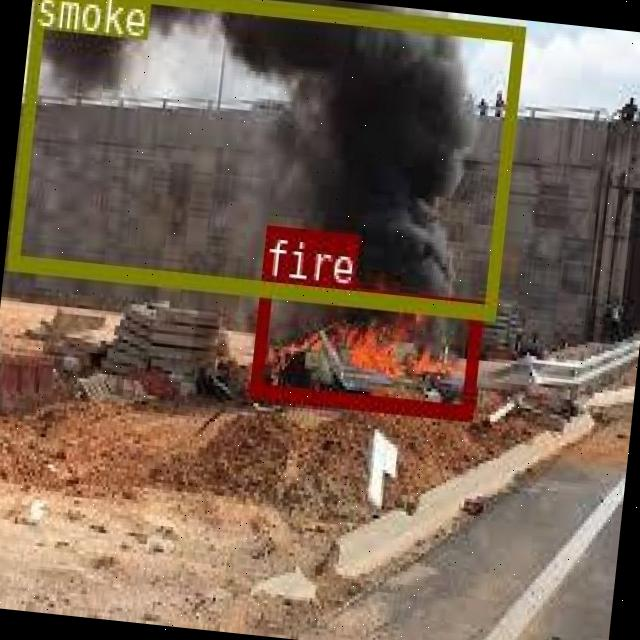fire: (247, 277, 480, 417)
smoke: (6, 0, 523, 315)
